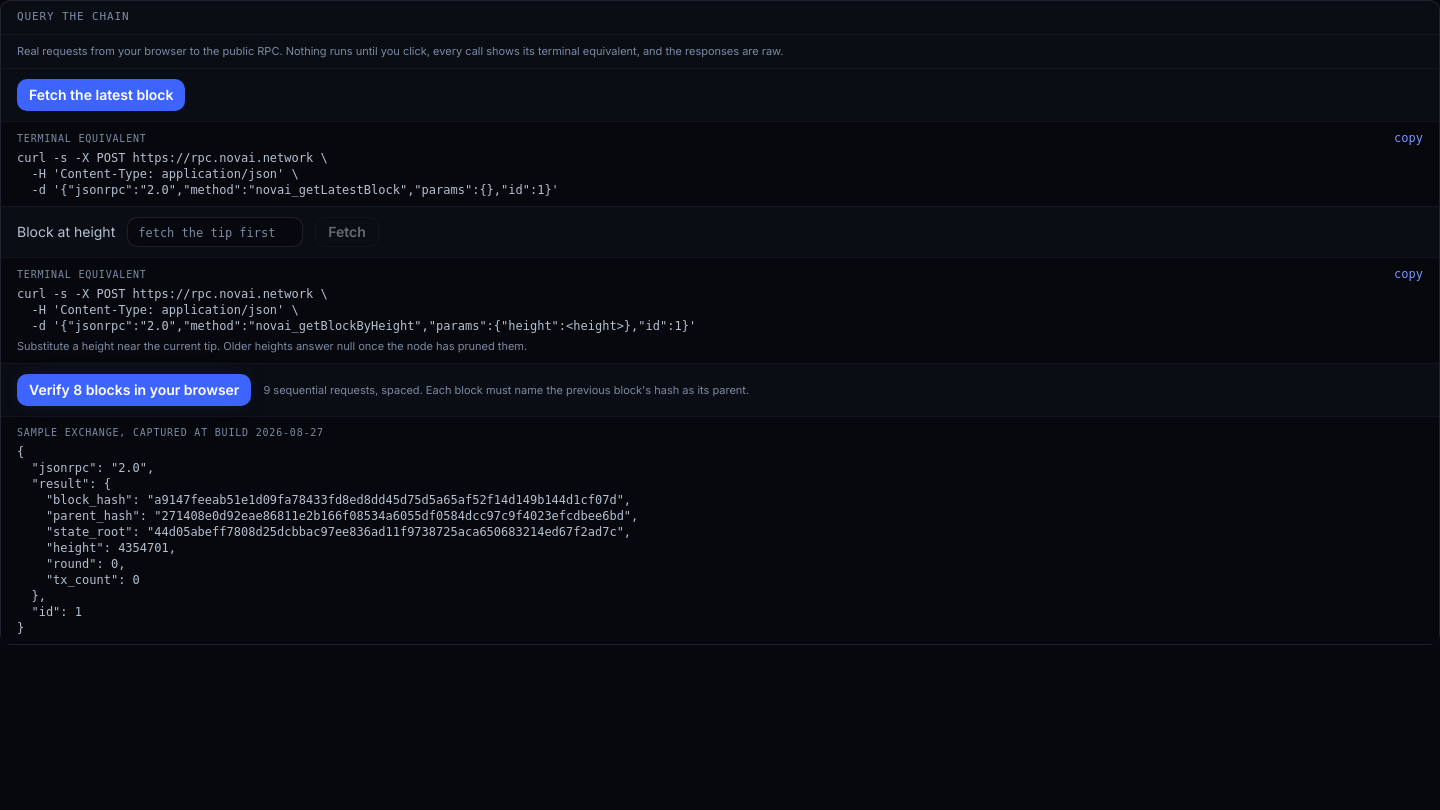
Test: VerifyPanel › verify walk: nine requests, eight verified links, completion line, 30s cooldown
Click the button "Verify 8 blocks in your browser" at coordinates (134, 390), box [17,374,251,406]
Wait 3000 ms
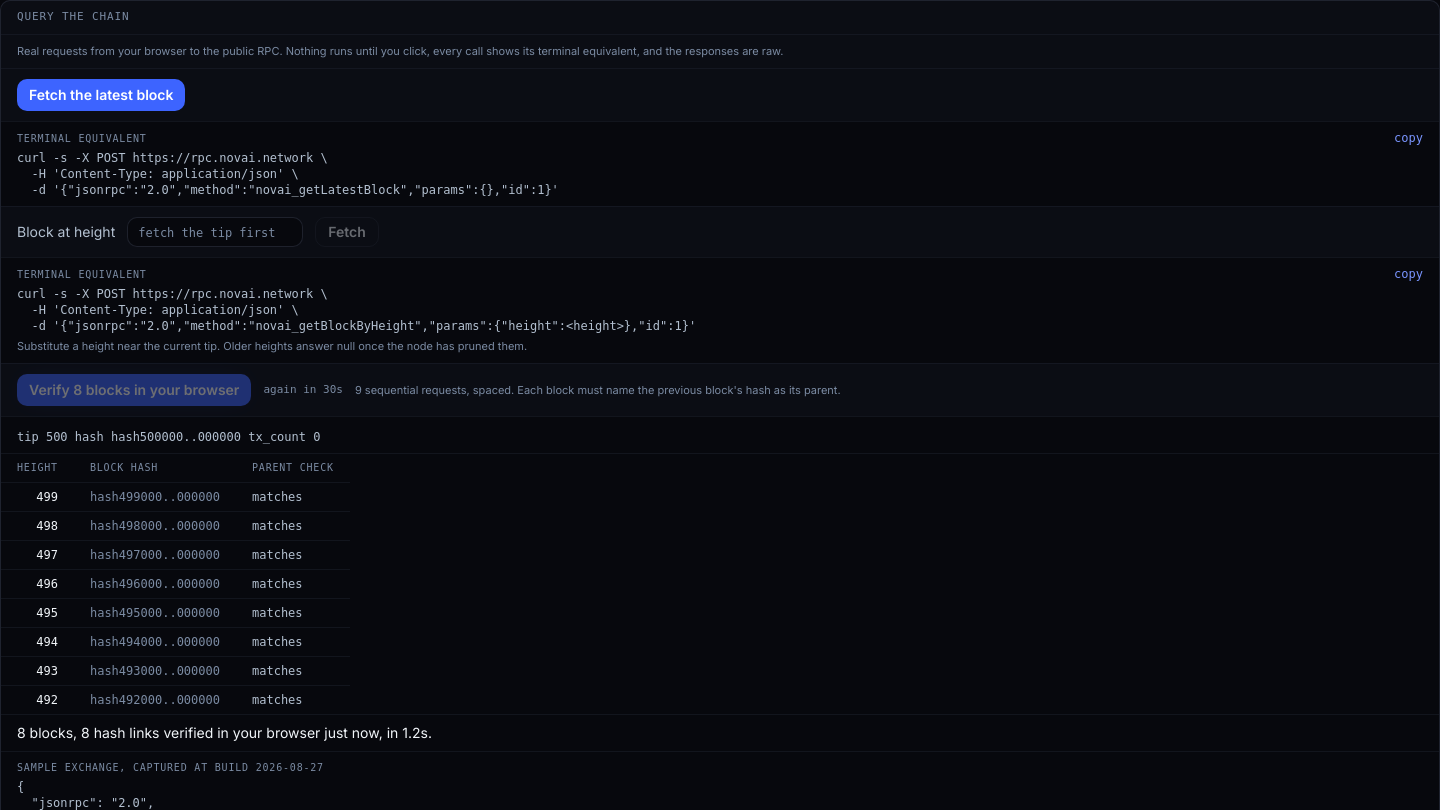
Check: the text "matches" is shown 8 times
Check: the text "8 blocks, 8 hash links verified in your browser" is shown, box [1,714,1439,751]
Check: the button "Verify 8 blocks in your browser" is disabled
Click the button "Verify 8 blocks in your browser" at coordinates (134, 390), box [17,374,251,406]
Wait 31010 ms
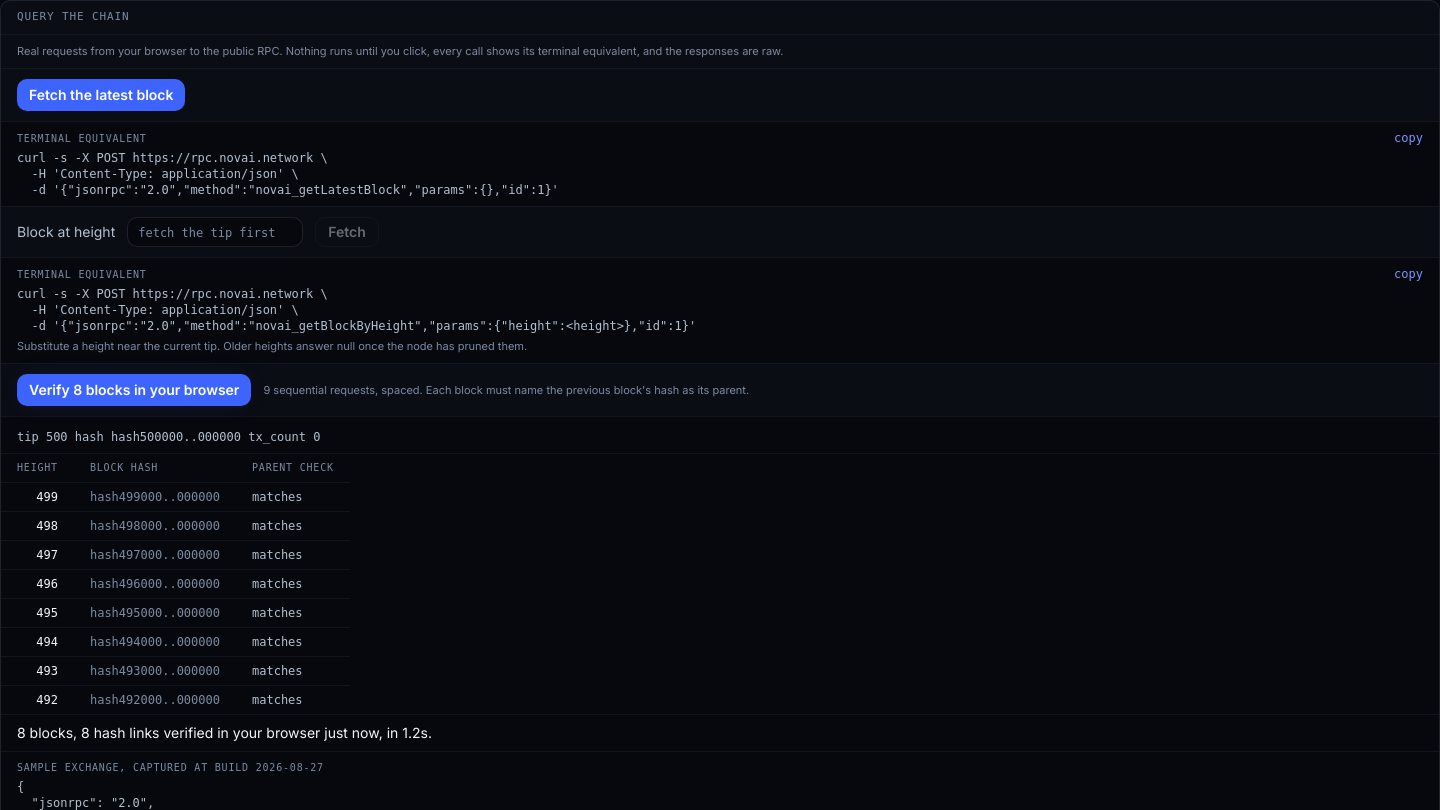
Check: the button "Verify 8 blocks in your browser" is enabled, box [17,374,251,406]
